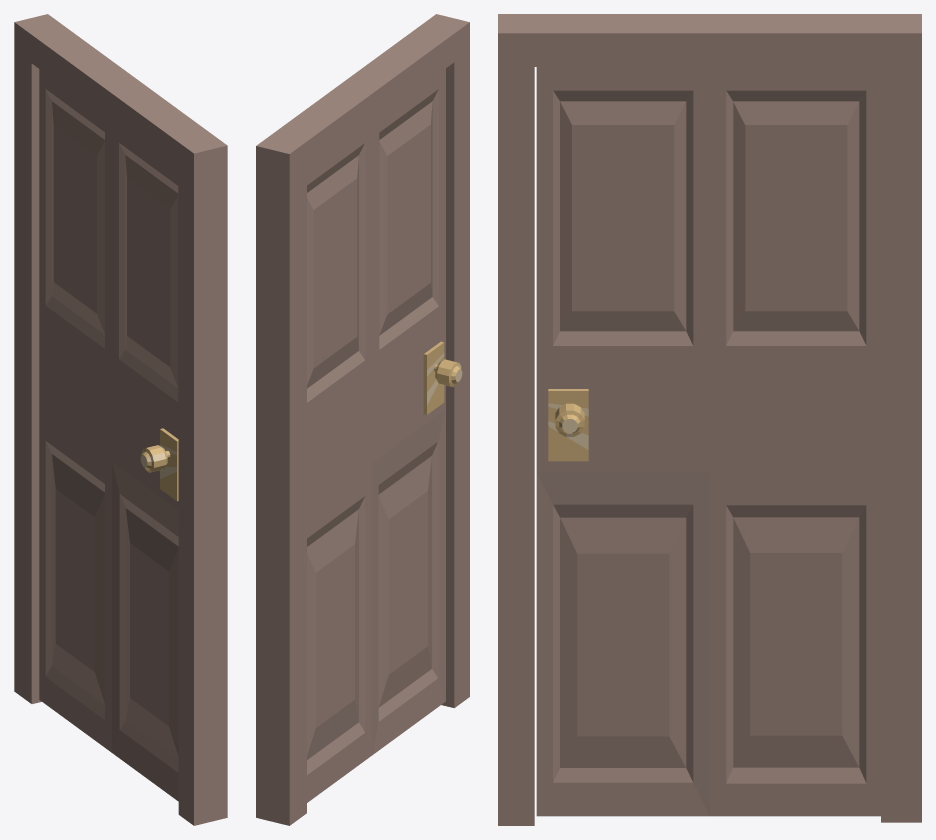
File: door1.glb
3 views of the same model, side by side, from view 1: azimuth 30°, elevation 25°; view 2: azimuth 150°, elevation 25°; view 3: azimuth 270°, elevation 25° (orthographic). The views are drawn at different scales.
Visible parts, largest first — view 1: group_1559002970, mesh_1708765680; view 2: group_1559002970, mesh_1708765680; view 3: group_1559002970, mesh_1708765680.
Part boxes in pixels (x1,y1,x2,y2): group_1559002970: [39, 69, 178, 801]; mesh_1708765680: [14, 14, 227, 825]; group_1559002970: [307, 68, 462, 802]; mesh_1708765680: [256, 14, 469, 825]; group_1559002970: [536, 67, 880, 816]; mesh_1708765680: [498, 14, 921, 825].
Bounding box in the file's own units: 0.2187 × 1.92 × 0.93.
